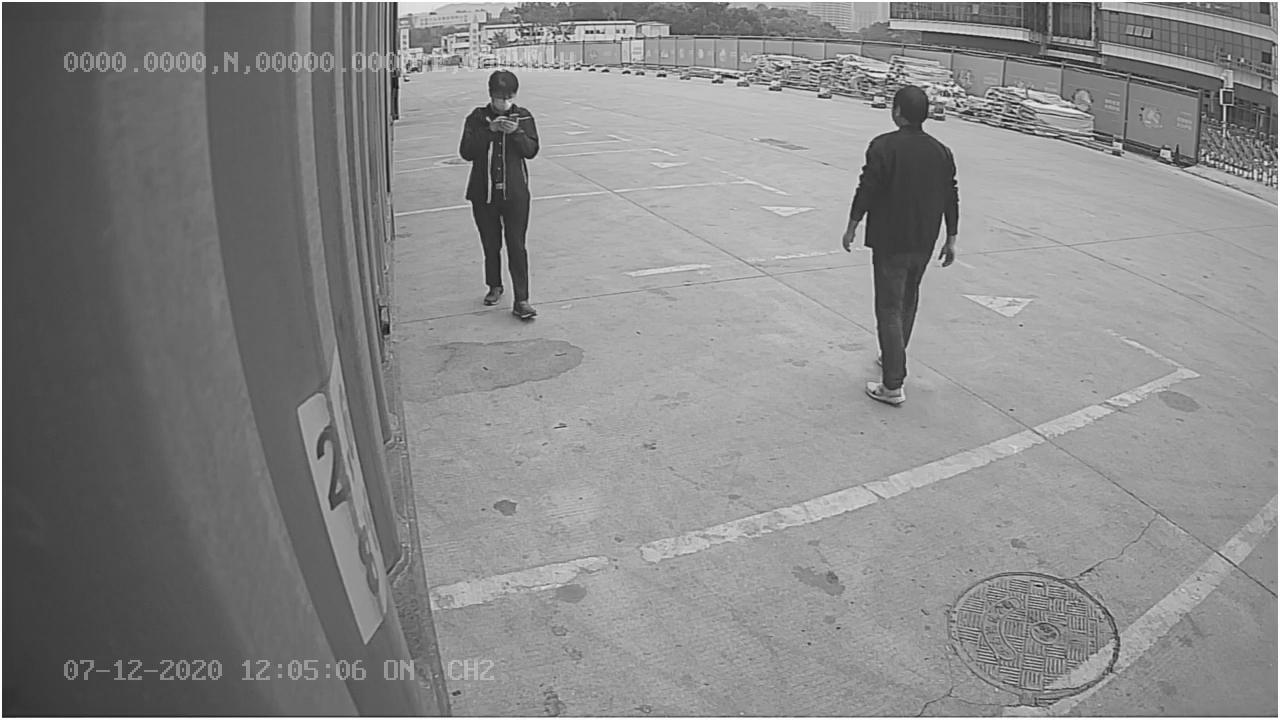person: (840, 82, 963, 410), (457, 69, 552, 321)
